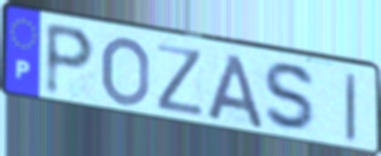A: (204, 51, 267, 131)
I: (344, 70, 359, 146)
O: (99, 34, 152, 109)
P: (43, 19, 98, 100)
S: (261, 59, 320, 135)
Z: (154, 41, 207, 119)
